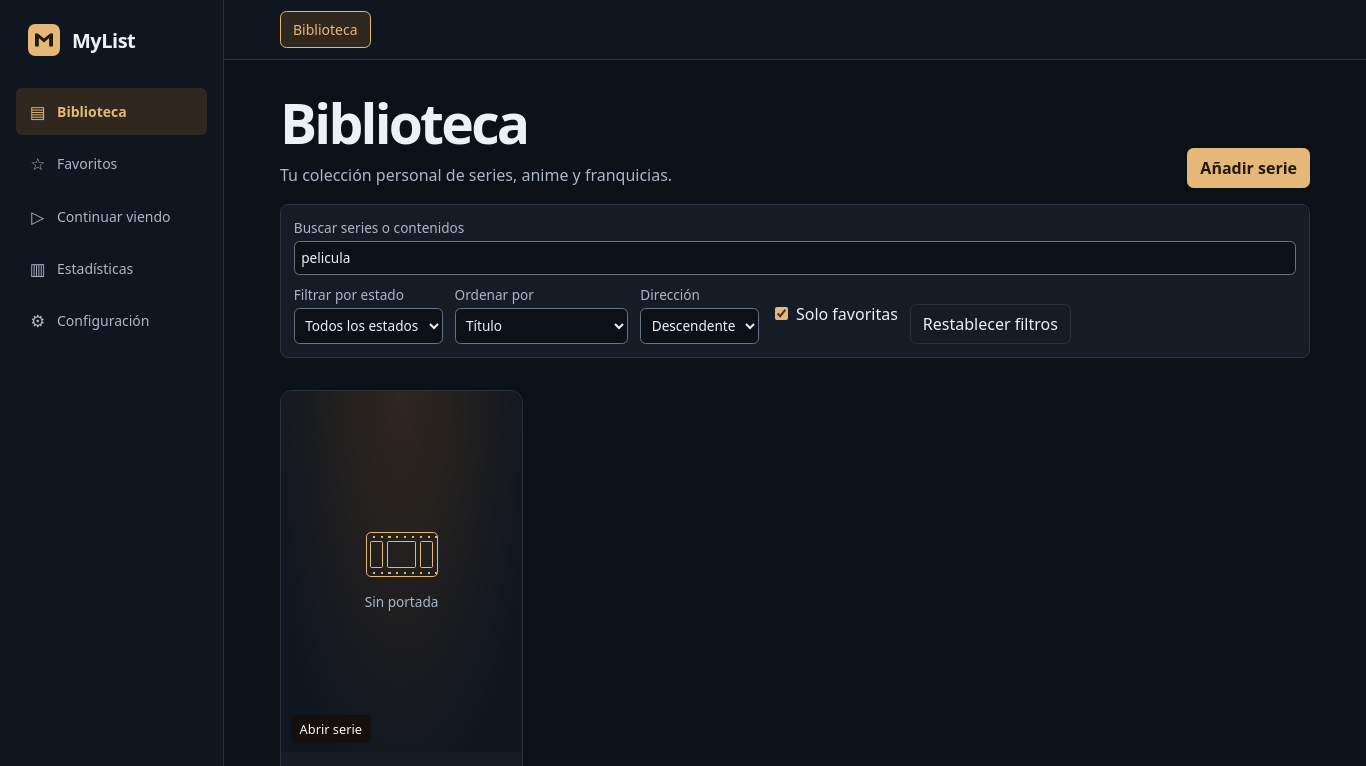
Test: MyList › restores the catalog filters and saves the reset
This screenshot has width=1366, height=766.
Later steps or results of the test are not shown.
Replace the text in the search field labelled "Buscar series o contenidos" with "inexistente". click: (795, 258)
box: left=294, top=241, right=1296, bottom=275
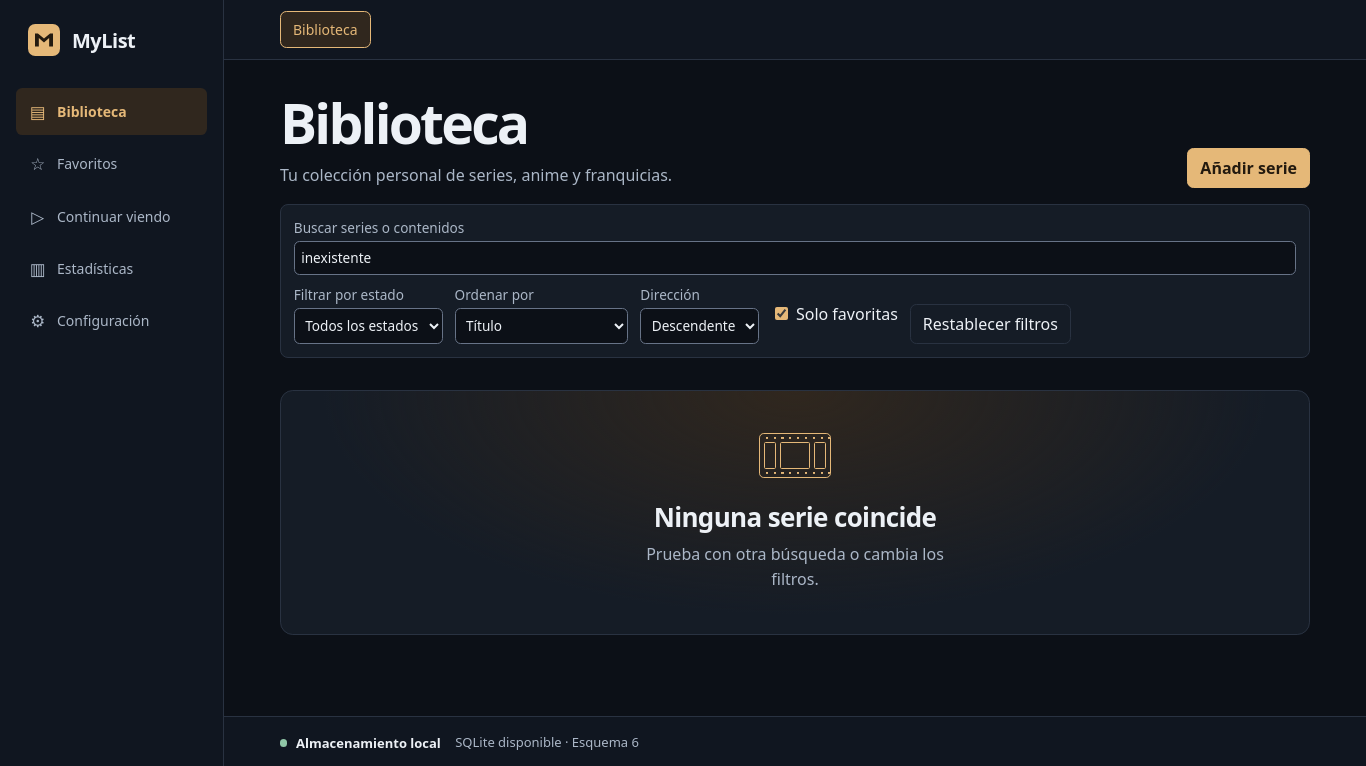
Result: the heading "Ninguna serie coincide" is shown at left=654, top=502, right=936, bottom=533
